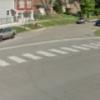crosswalks: (0, 41, 100, 69)
